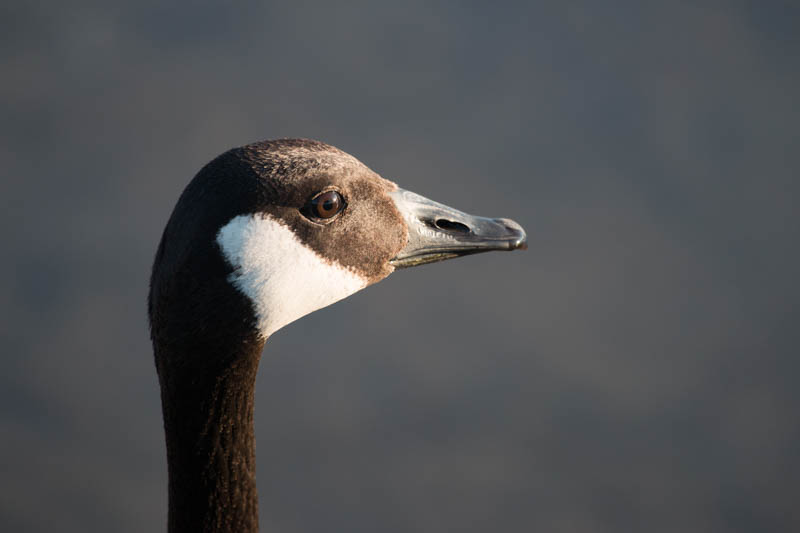goose-head: (146, 138, 529, 341)
